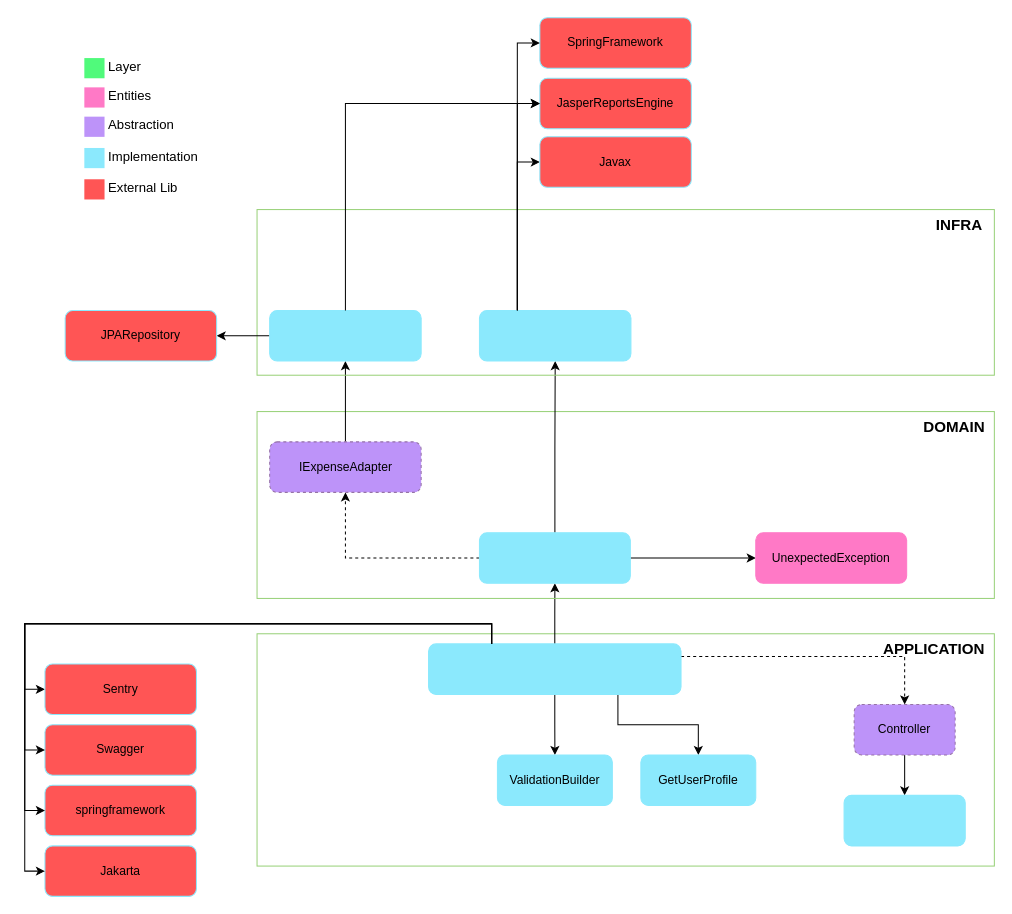
Image size: 1012x914. Some labels were removed from this diagram. Each missing label, with the centre of its shape:
ExpenseAdapter: point (345, 335)
GenerateFixedExpense: point (554, 557)
GenerateFixedExpenseReportController: point (554, 668)
JasperReportHelper: point (554, 335)
ValidationComposite: point (904, 820)
